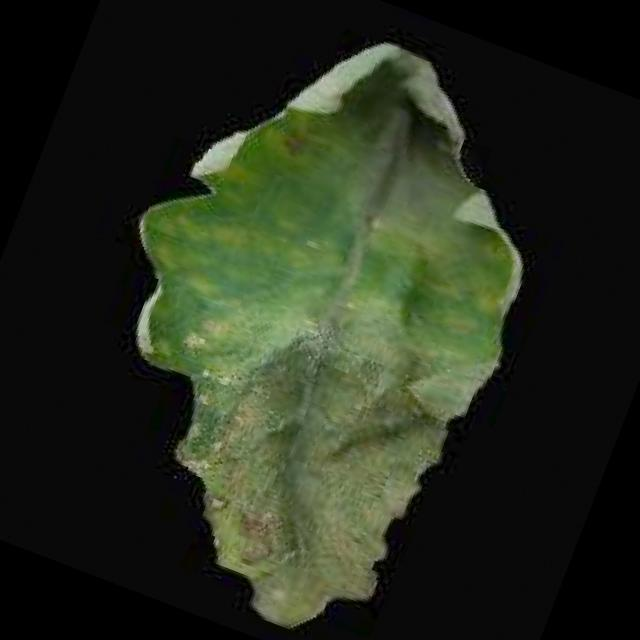Tomato late blight leaf: (24, 0, 595, 640)
